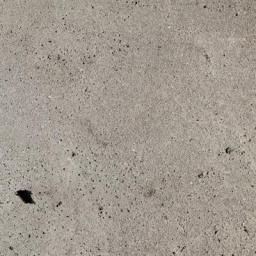FOD: (14, 185, 39, 207)
